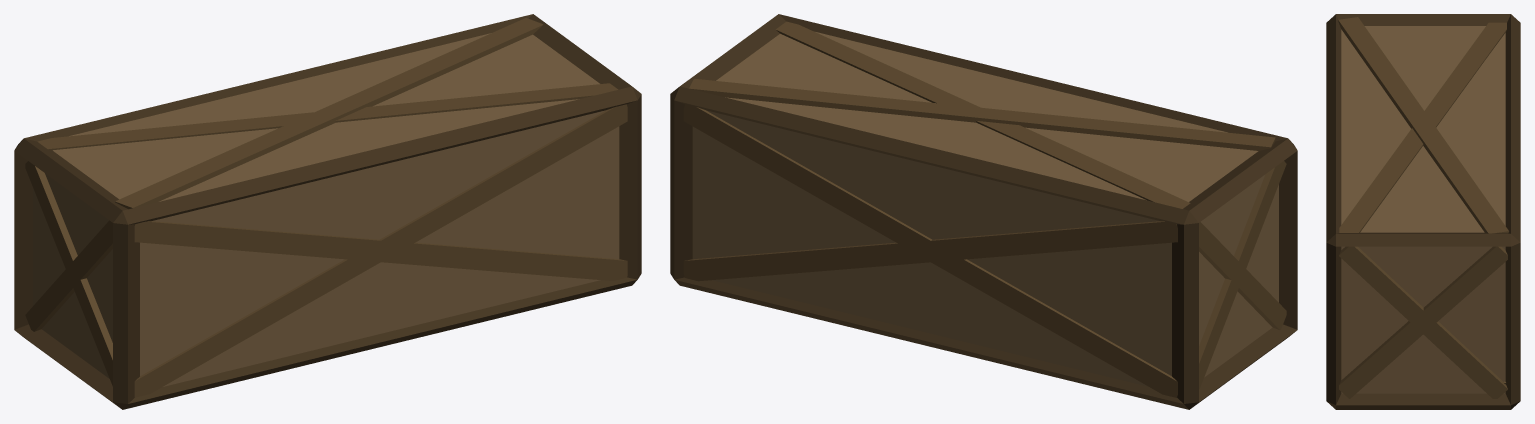
Rendered from Caja_grande.fbx.
3 renders of one model, left to right at view 1: azimuth 30°, elevation 25°; view 2: azimuth 150°, elevation 25°; view 3: azimuth 270°, elevation 25°, orthographic. The views are drawn at different scales.
Parts seen in each view (by area): view 1: pCube51; view 2: pCube51; view 3: pCube51.
Boxes of the visible parts, x1,y1,x2,y2 form: pCube51: [14, 14, 641, 409]; pCube51: [670, 14, 1297, 409]; pCube51: [1326, 14, 1520, 409].
Size of the model in its own units: 13.16 by 4.76 by 4.74.
